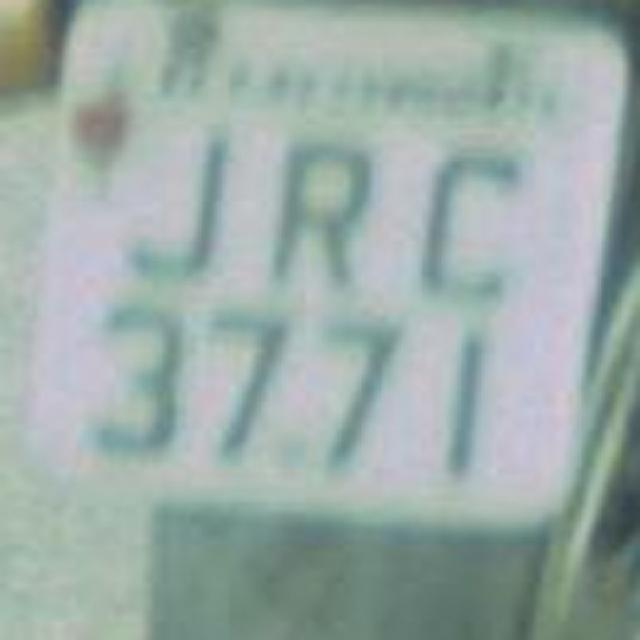1: (420, 288, 515, 492)
3: (64, 288, 211, 492)
7: (191, 296, 304, 489), (296, 300, 412, 488)
C: (395, 112, 520, 300)
J: (104, 116, 236, 309), (0, 1, 1, 2)
R: (248, 120, 380, 308)
